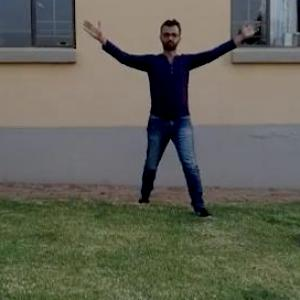takeoff: (73, 17, 245, 200)
